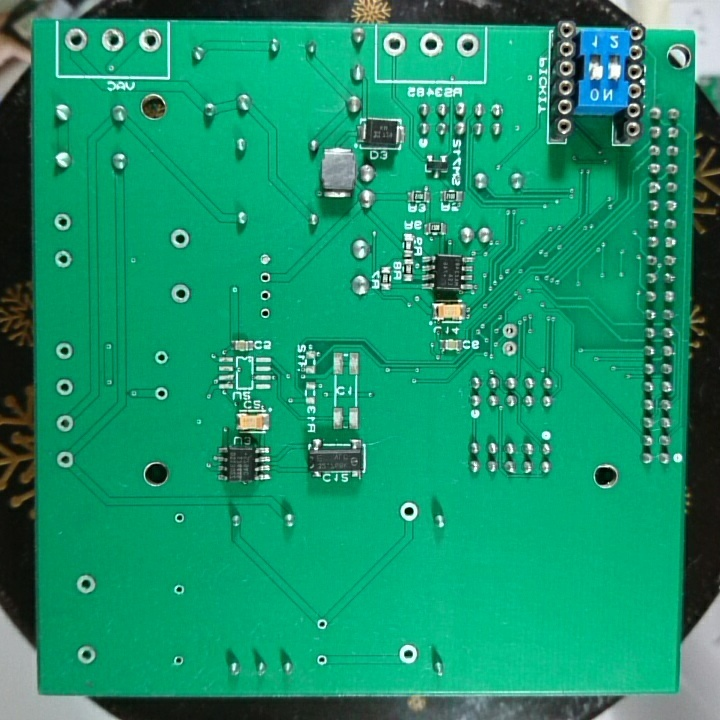F: (381, 31, 411, 60), (136, 26, 164, 55), (417, 31, 445, 59), (62, 26, 90, 54), (99, 26, 127, 53), (454, 32, 480, 59), (168, 279, 194, 305), (168, 224, 193, 251), (397, 498, 421, 526), (396, 641, 420, 668), (74, 572, 98, 598), (74, 642, 97, 667), (52, 247, 75, 271), (54, 376, 77, 399), (53, 338, 75, 362), (52, 212, 74, 235), (54, 413, 75, 435), (54, 449, 74, 471), (499, 338, 519, 359), (151, 384, 171, 404), (151, 349, 172, 368), (500, 320, 519, 340), (171, 509, 188, 528), (171, 652, 187, 671), (257, 249, 274, 266), (257, 269, 275, 285), (314, 615, 329, 634), (258, 289, 276, 303), (258, 305, 273, 321), (171, 583, 187, 598), (315, 652, 330, 668)
